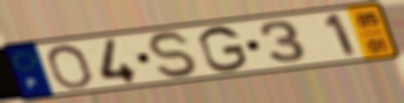1: (324, 11, 361, 60)
3: (258, 20, 309, 65)
4: (99, 36, 141, 85)
G: (196, 25, 250, 75)
O: (44, 42, 96, 91)
S: (144, 30, 203, 80)
